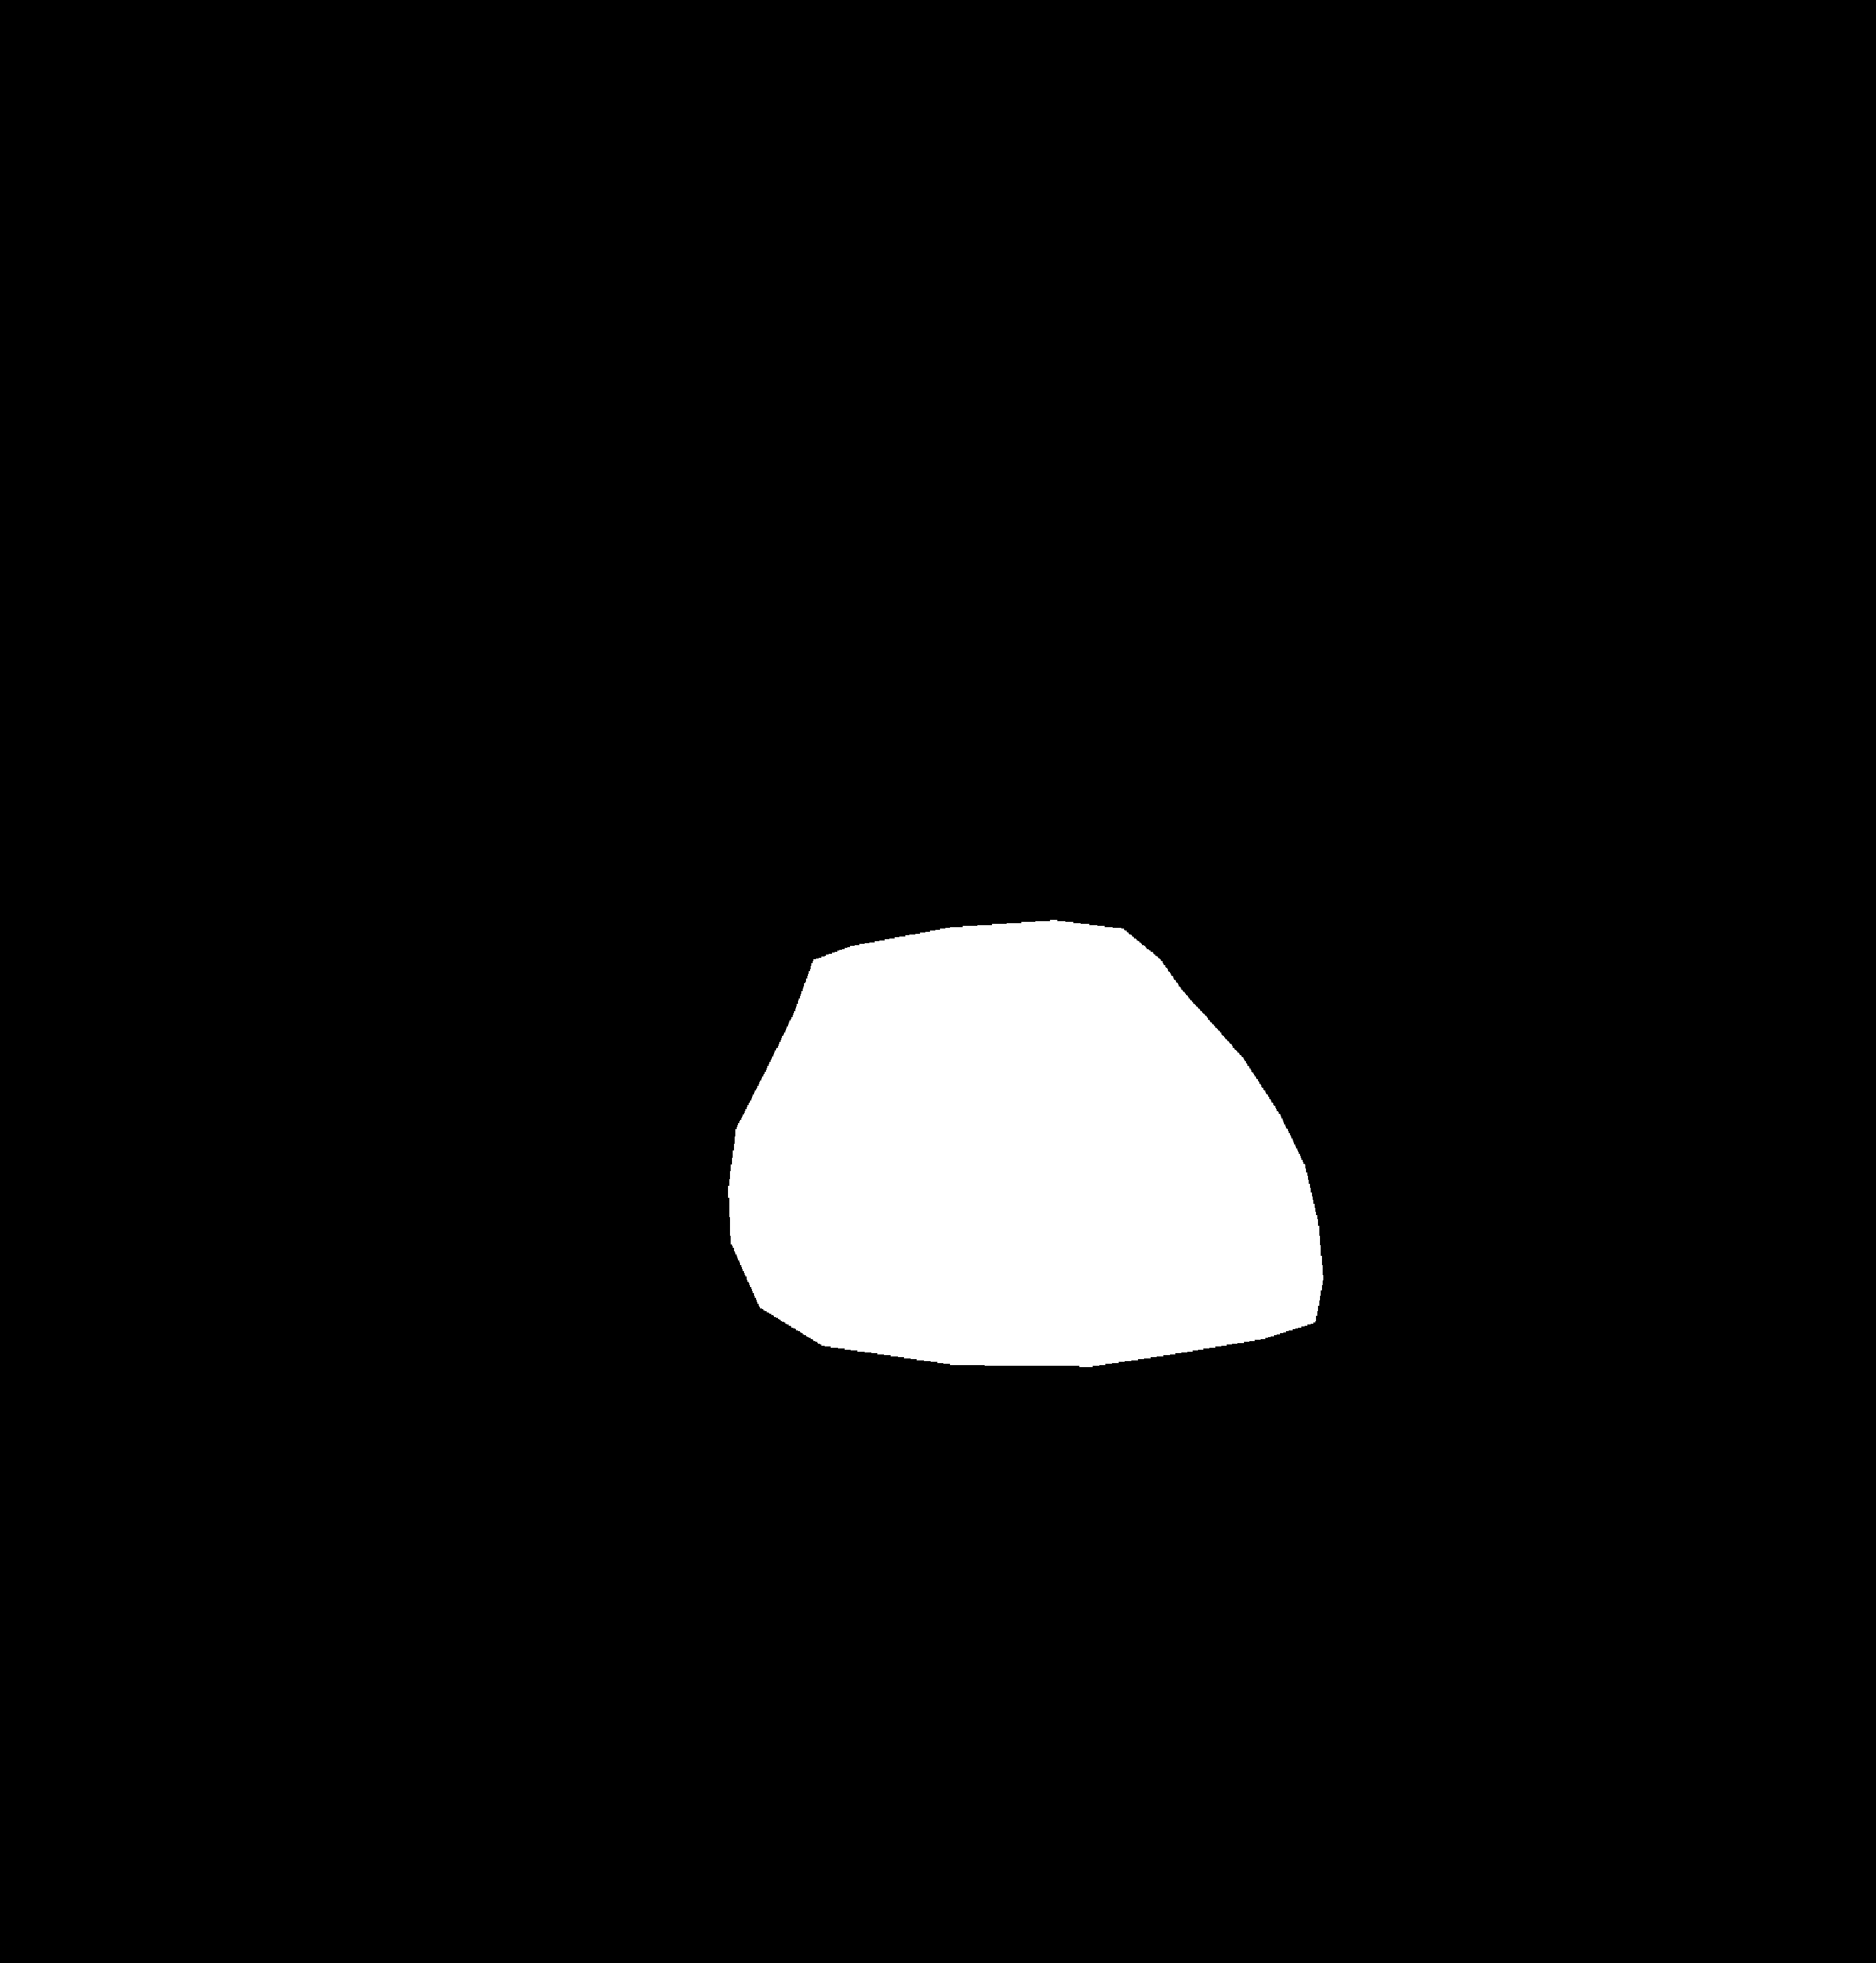heart: (733, 966, 1322, 1385)
left_lung: (244, 322, 871, 1441)
right_lung: (1045, 328, 1629, 1506)
